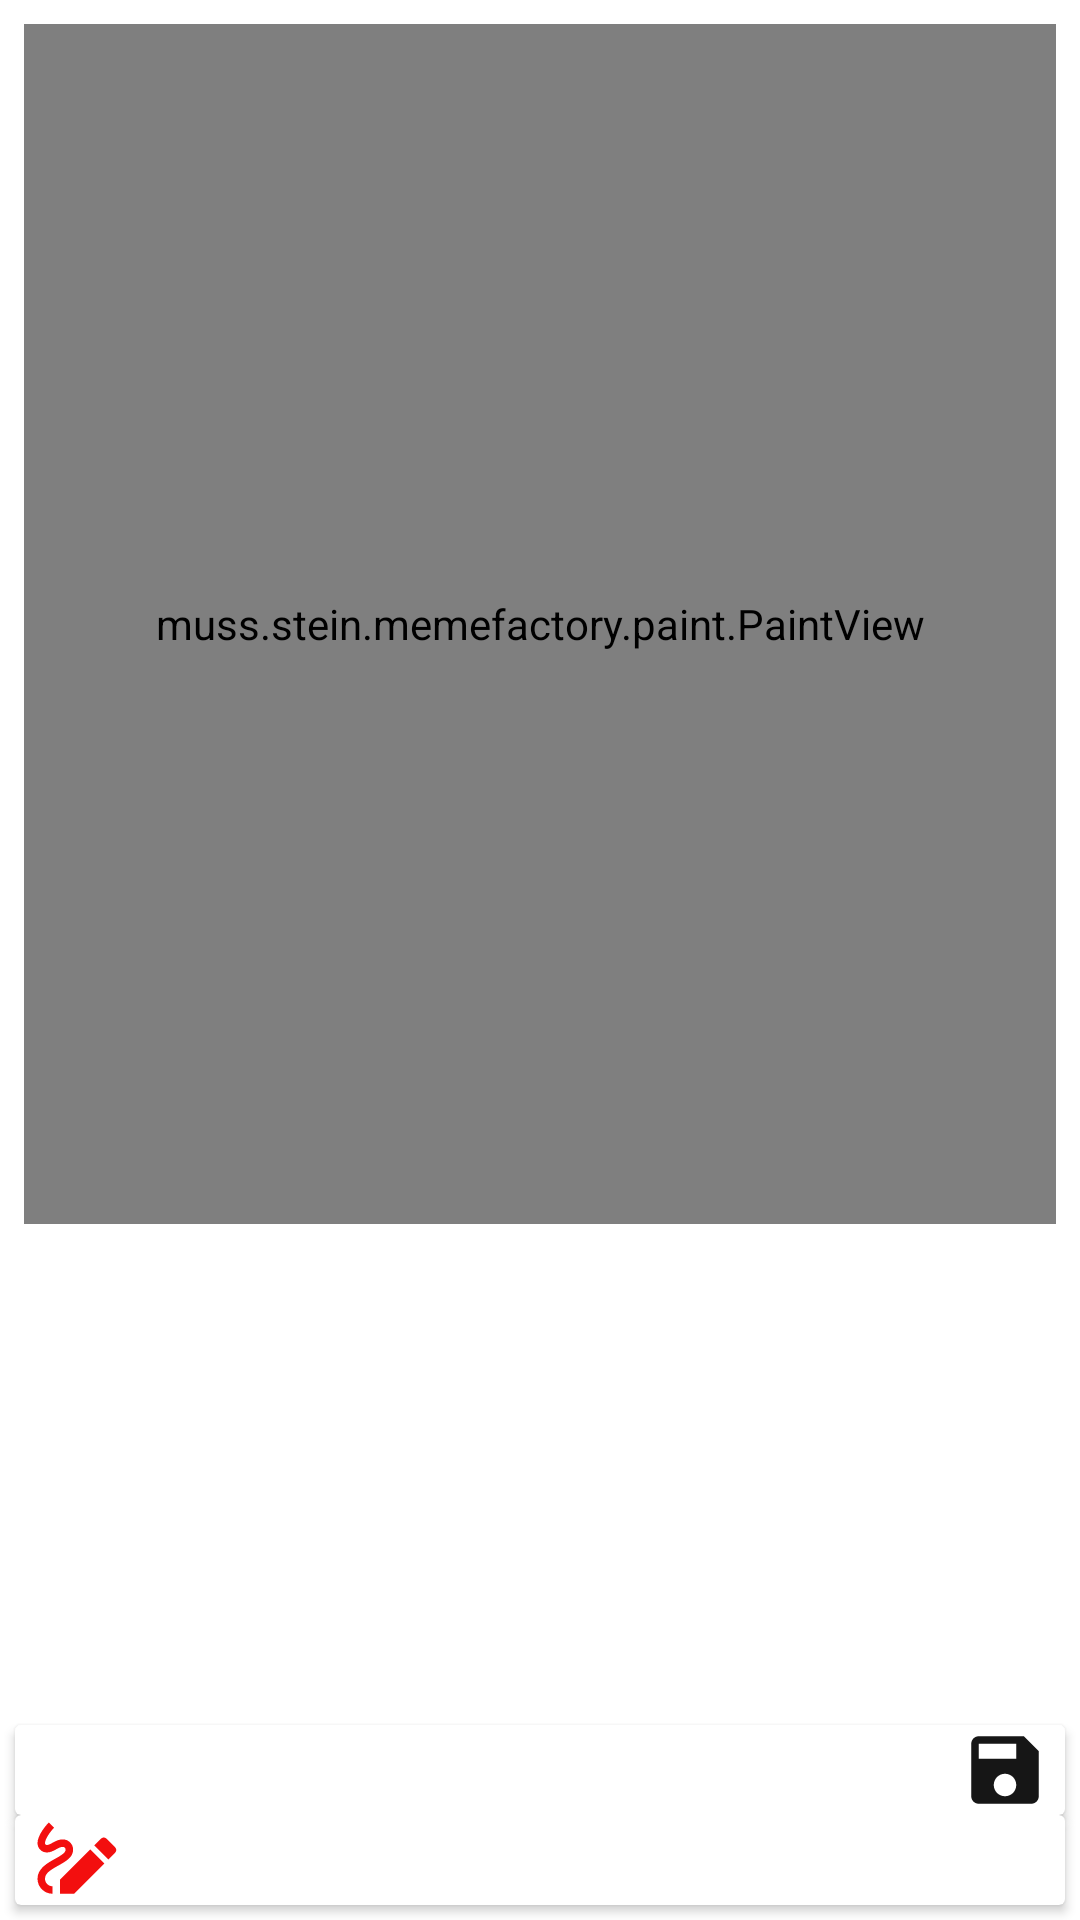

Screen size 1080 x 1920. Icon name, then its box in pixels as (x1, y1, x2, y2):
draw: (37, 1822, 117, 1894)
save: (971, 1736, 1039, 1804)
